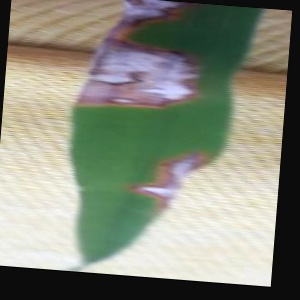Brown_Spot: (72, 0, 198, 117), (130, 130, 212, 209), (98, 0, 182, 25)
